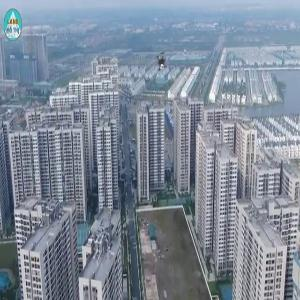drone: (143, 43, 183, 83)
